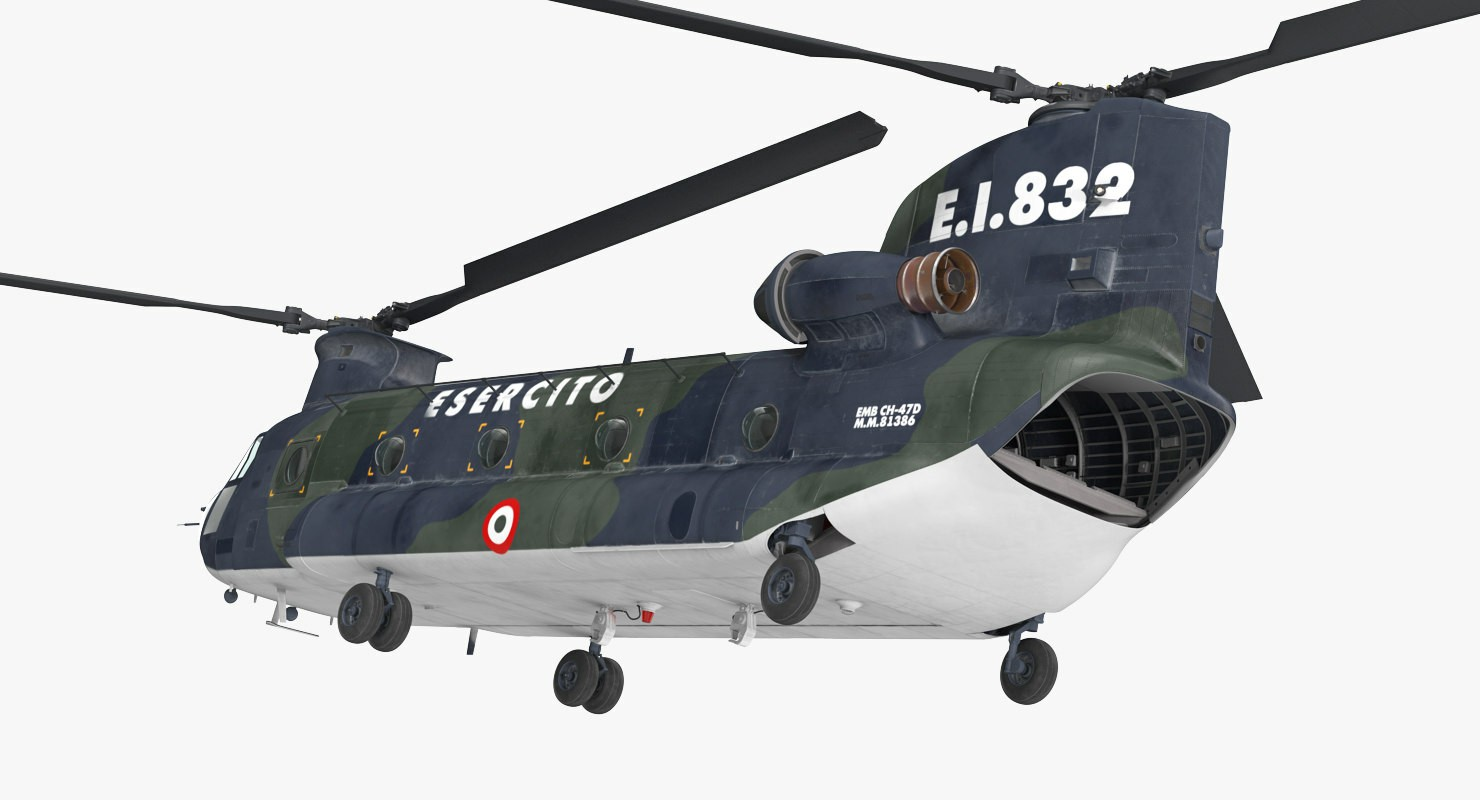chinook: (155, 15, 1405, 734)
